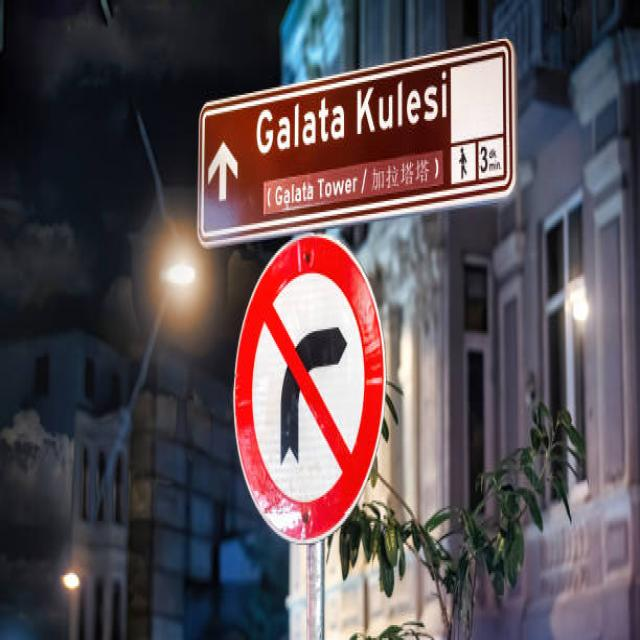do_not_turn_right: (219, 233, 394, 559)
